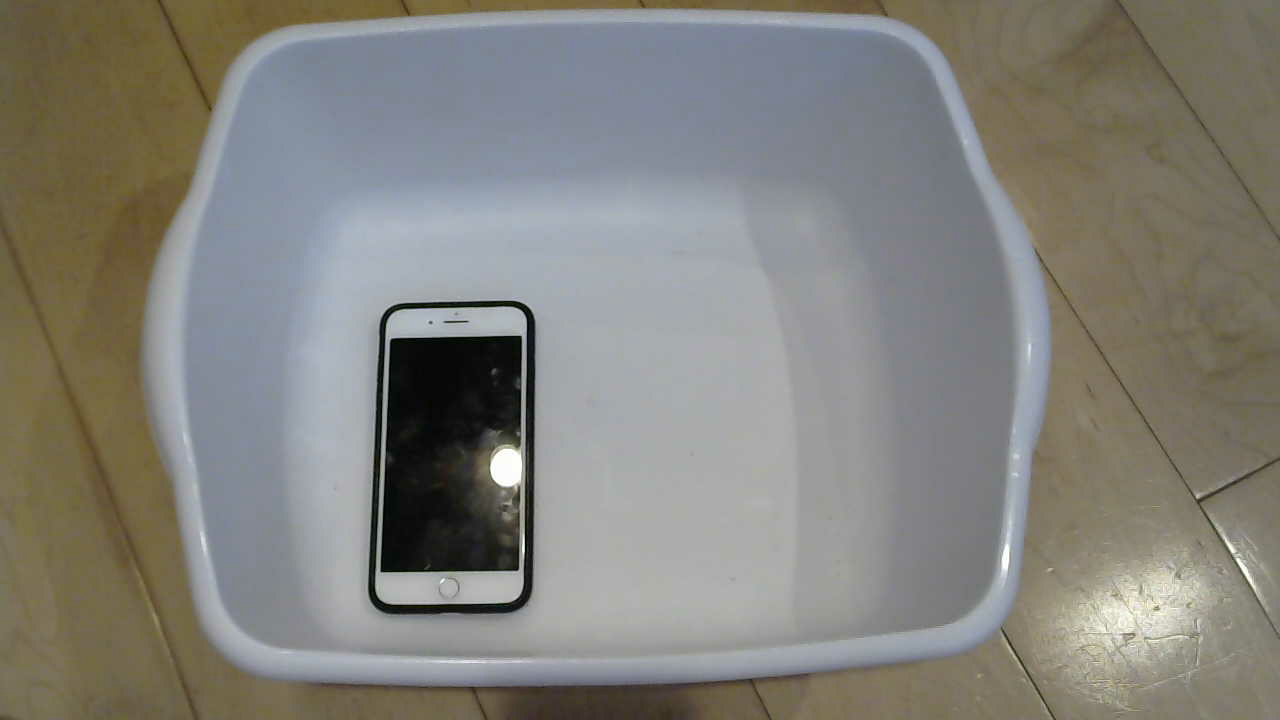phone: (360, 297, 551, 629)
